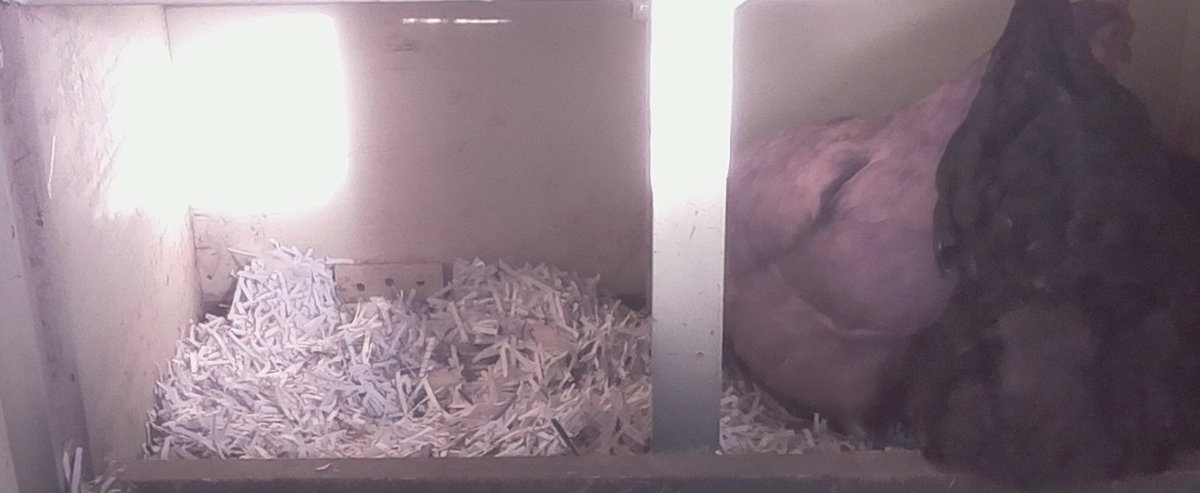hen: (918, 11, 1191, 485), (727, 40, 970, 443)
